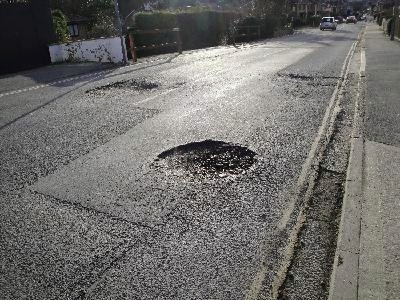pothole: (148, 137, 259, 183), (83, 78, 157, 96)
